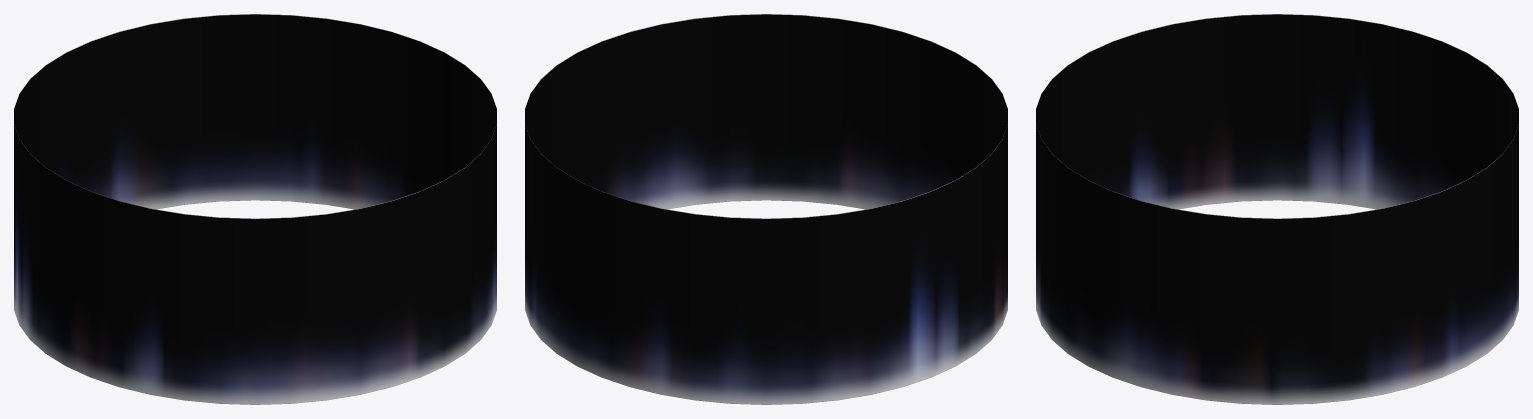
Rendered from M_XXPX03.FBX.
3 views of the same model, side by side, from view 1: azimuth 30°, elevation 25°; view 2: azimuth 150°, elevation 25°; view 3: azimuth 270°, elevation 25° (orthographic).
Parts seen in each view (by area): view 1: Cylinder001; view 2: Cylinder001; view 3: Cylinder001.
Boxes of the visible parts, <box> form: Cylinder001: <box>14,14,496,404</box>; Cylinder001: <box>525,14,1007,404</box>; Cylinder001: <box>1036,14,1518,404</box>.
Bounding box in the file's own units: 261 × 111 × 260.
